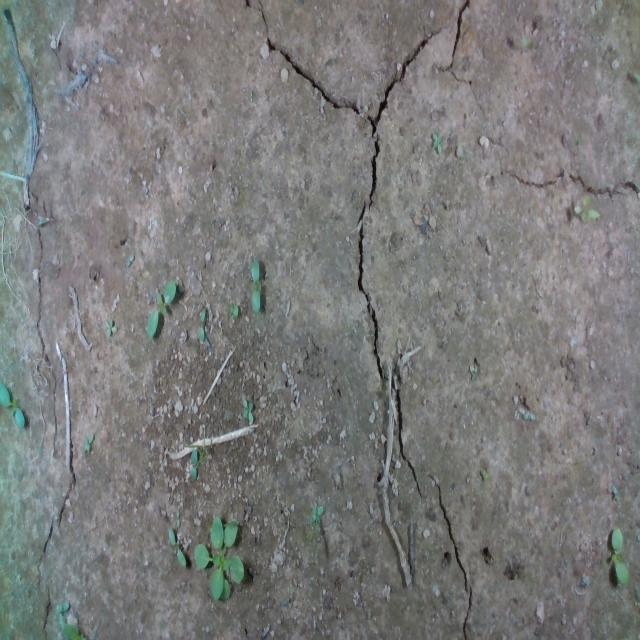weed: (144, 277, 177, 338), (608, 524, 630, 588), (166, 524, 188, 570), (573, 190, 598, 230), (246, 258, 262, 314), (102, 319, 119, 344), (430, 130, 445, 156), (197, 308, 206, 347), (242, 395, 252, 429), (122, 248, 138, 268), (311, 503, 324, 527), (80, 430, 94, 452), (225, 300, 239, 322)
